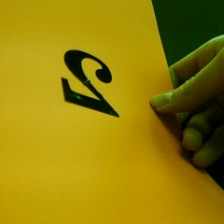orange2: (56, 46, 126, 123)
